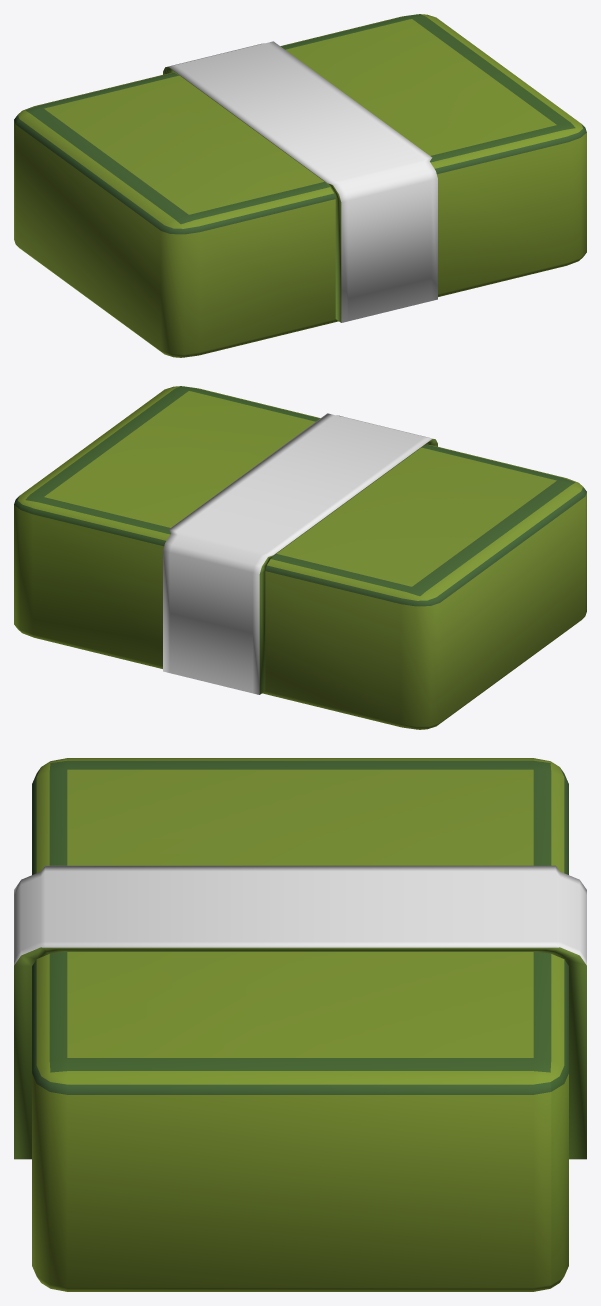
File: para_son.fbx
3 views of the same model, one above another, from view 1: azimuth 30°, elevation 25°; view 2: azimuth 150°, elevation 25°; view 3: azimuth 270°, elevation 25° (orthographic). The views are drawn at different scales.
Visible parts, largest first — view 1: para; view 2: para; view 3: para.
Boxes of the visible parts, box(x1,y1,x2,y2) form: para: box(14, 14, 586, 357); para: box(14, 386, 586, 729); para: box(14, 758, 586, 1291).
Bounding box in the file's own units: 169 × 54.28 × 123.
1 material, 1 textured.
